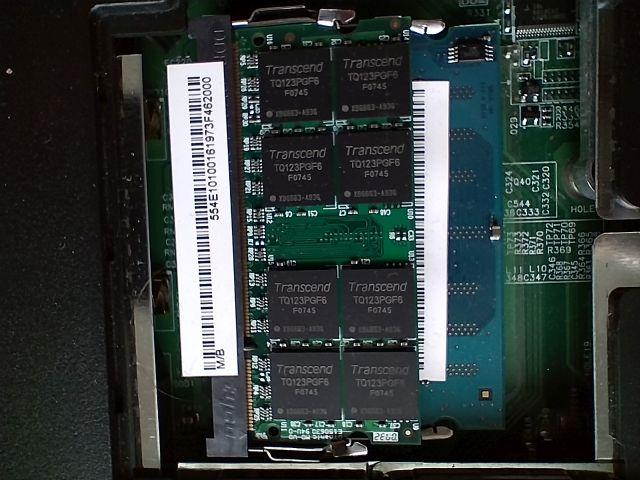capacitor: (487, 217, 505, 247)
resistor: (243, 44, 264, 68), (250, 270, 270, 290), (258, 402, 270, 422)
